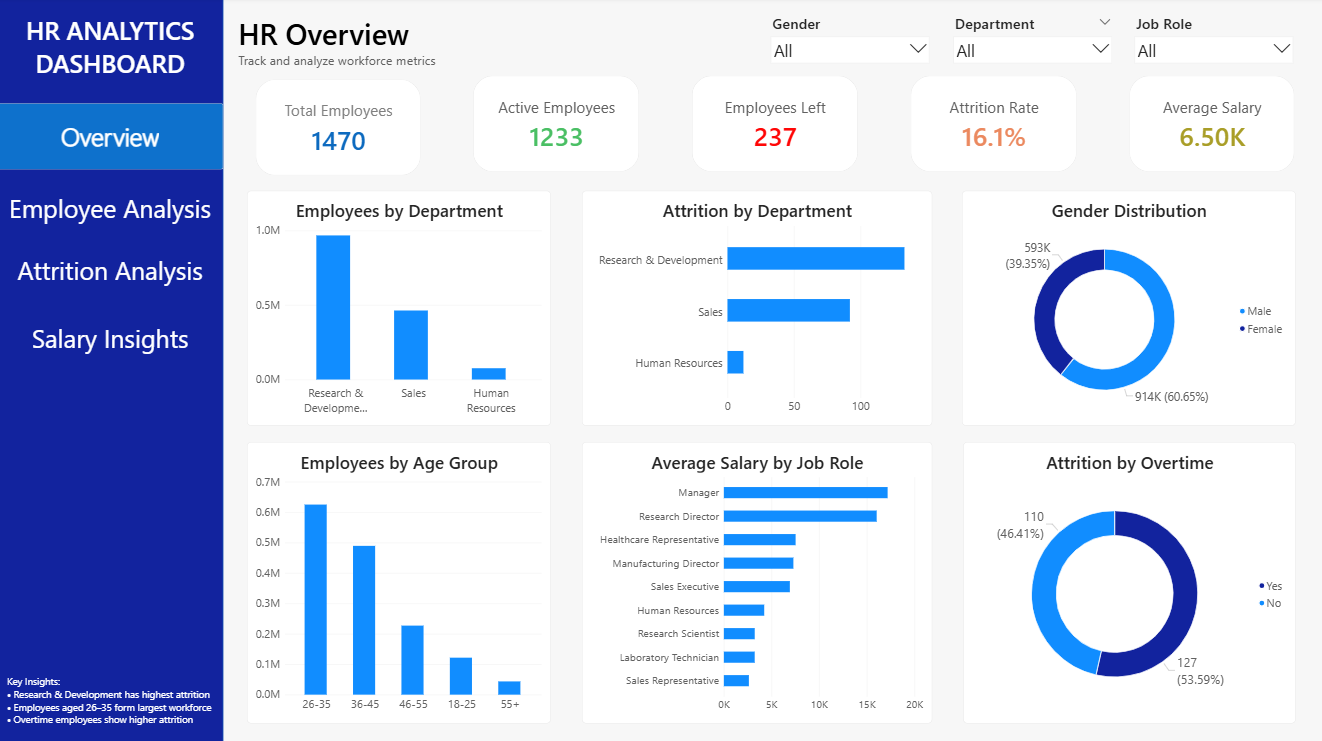

What the dashboard file says about the page in this screenshot:
{"tool":"powerbi","page":{"name":"OVERVIEW","canvas":[2560,1440],"ordinal":0},"visuals":[{"type":"shape","box":[0,0,436.7,1440],"z":0},{"type":"textbox","box":[0,32.4,436.7,149.7],"z":1000},{"type":"textbox","box":[0,244.6,436.7,102.3],"z":2000},{"type":"textbox","box":[0,374,436.7,79.6],"z":3000},{"type":"textbox","box":[0,494.6,436.7,89.3],"z":4000},{"type":"textbox","box":[0,624.9,436.7,96.5],"z":5000},{"type":"cardVisual","fields":{"Data":["IBM HR-Employee-Attrition.Total Employees"]},"box":[499.5,159.3,318.5,185.8],"z":6000},{"type":"textbox","box":[465.7,31.4,386.1,108.6],"z":7000},{"type":"cardVisual","fields":{"Data":["IBM HR-Employee-Attrition.Attrition Rate"]},"box":[1763.8,152,320.9,185.8],"z":8000},{"type":"cardVisual","fields":{"Data":["IBM HR-Employee-Attrition.Employees Left"]},"box":[1341.6,152,320.9,185.8],"z":9000},{"type":"cardVisual","fields":{"Data":["IBM HR-Employee-Attrition.Active Employees"]},"box":[919.3,152,320.9,185.8],"z":10000},{"type":"cardVisual","fields":{"Data":["IBM HR-Employee-Attrition.Average Salary"]},"box":[2186.1,152,318.5,185.8],"z":11000},{"type":"clusteredColumnChart","title":"Employees by Department","fields":{"Category":["IBM HR-Employee-Attrition.Department"],"Y":["Sum(IBM HR-Employee-Attrition.Employee Number)"]},"box":[482.6,374,586.3,453.6],"z":12000},{"type":"clusteredBarChart","title":"Attrition by Department","fields":{"Category":["IBM HR-Employee-Attrition.Department"],"Y":["IBM HR-Employee-Attrition.Employees Left"]},"box":[1129.2,374,675.6,453.6],"z":13000},{"type":"donutChart","title":"Gender Distribution","fields":{"Category":["IBM HR-Employee-Attrition.Gender"],"Y":["Sum(IBM HR-Employee-Attrition.Employee Number)"]},"box":[1862.7,374,644.2,453.6],"z":14000},{"type":"actionButton","box":[0,205.1,436.7,127.9],"z":15000},{"type":"columnChart","title":"Employees by Age Group","fields":{"Category":["IBM HR-Employee-Attrition.AgeGroup"],"Y":["Sum(IBM HR-Employee-Attrition.Employee Number)"]},"box":[482.6,859,586.3,542.9],"z":15001},{"type":"clusteredBarChart","title":"Average Salary by Job Role","fields":{"Category":["IBM HR-Employee-Attrition.JobRole"],"Y":["IBM HR-Employee-Attrition.Average Salary"]},"box":[1129,859,676,543],"z":15002},{"type":"donutChart","title":"Attrition by Overtime","fields":{"Category":["IBM HR-Employee-Attrition.OverTime"],"Y":["IBM HR-Employee-Attrition.Employees Left"]},"box":[1865.2,859,641.8,542.9],"z":15003},{"type":"slicer","fields":{"Values":["IBM HR-Employee-Attrition.Department"]},"box":[1841,31.4,316.1,108.6],"z":15004},{"type":"slicer","fields":{"Values":["IBM HR-Employee-Attrition.JobRole"]},"box":[2190.9,31.4,316.1,108.6],"z":15005},{"type":"slicer","fields":{"Values":["IBM HR-Employee-Attrition.Gender"]},"box":[1488.7,31.4,316.1,108.6],"z":15006},{"type":"textbox","box":[465.7,106.2,774.5,43.4],"z":15007},{"type":"textbox","box":[19.3,1307.8,417.4,132.7],"z":15008}]}

Visuals, with their boxes in screenshot pixels (x1, y1, x2, y2), scaled from the page's 2560x1440 canvas onto the 1322x741 screenshot:
shape: 0, 0, 226, 740
textbox: 0, 17, 226, 94
textbox: 0, 126, 226, 179
textbox: 0, 192, 226, 233
textbox: 0, 255, 226, 300
textbox: 0, 322, 226, 371
cardVisual - IBM HR-Employee-Attrition.Total Employees: 258, 82, 422, 178
textbox: 240, 16, 440, 72
cardVisual - IBM HR-Employee-Attrition.Attrition Rate: 911, 78, 1077, 174
cardVisual - IBM HR-Employee-Attrition.Employees Left: 693, 78, 859, 174
cardVisual - IBM HR-Employee-Attrition.Active Employees: 475, 78, 640, 174
cardVisual - IBM HR-Employee-Attrition.Average Salary: 1129, 78, 1293, 174
"Employees by Department" clusteredColumnChart: 249, 192, 552, 426
"Attrition by Department" clusteredBarChart: 583, 192, 932, 426
"Gender Distribution" donutChart: 962, 192, 1295, 426
actionButton: 0, 106, 226, 171
"Employees by Age Group" columnChart: 249, 442, 552, 721
"Average Salary by Job Role" clusteredBarChart: 583, 442, 932, 721
"Attrition by Overtime" donutChart: 963, 442, 1295, 721
slicer - IBM HR-Employee-Attrition.Department: 951, 16, 1114, 72
slicer - IBM HR-Employee-Attrition.JobRole: 1131, 16, 1295, 72
slicer - IBM HR-Employee-Attrition.Gender: 769, 16, 932, 72
textbox: 240, 55, 640, 77
textbox: 10, 673, 226, 740
